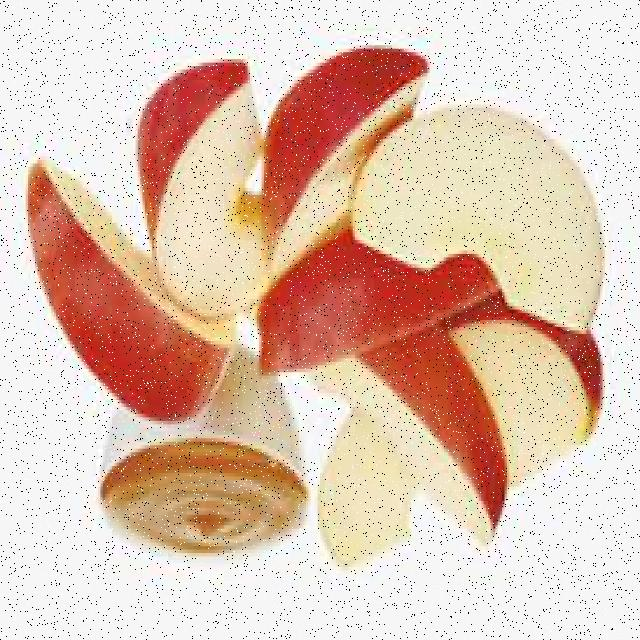Apple: (318, 324, 601, 572), (356, 105, 604, 327), (28, 176, 237, 423), (263, 47, 427, 284), (332, 332, 498, 537), (141, 64, 268, 316), (256, 240, 487, 378)
